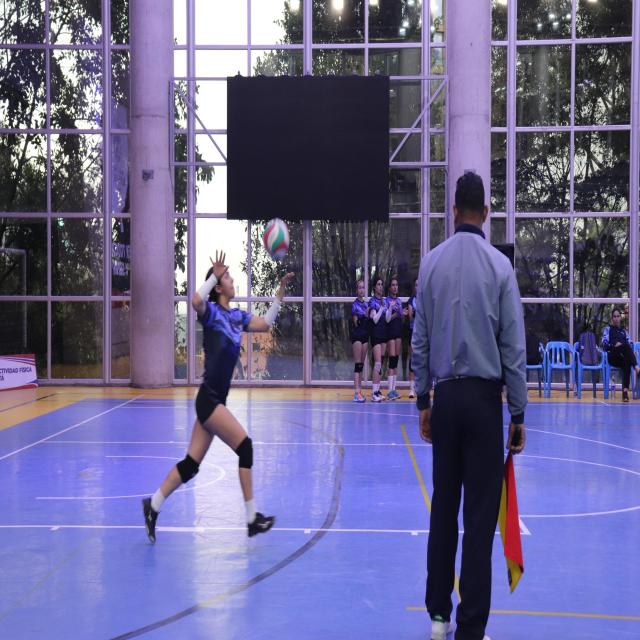volleyball: (262, 217, 290, 262)
